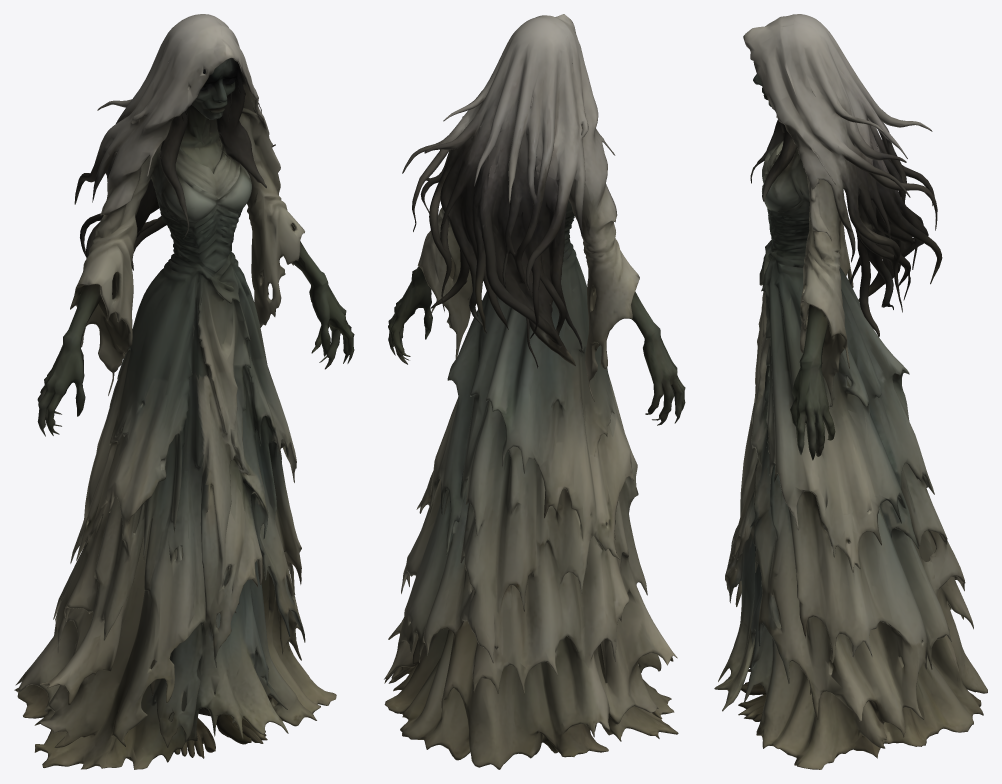
Rendered from LloronaModeloBase_NORigg.fbx.
3 views of the same model, side by side, from view 1: azimuth 30°, elevation 25°; view 2: azimuth 150°, elevation 25°; view 3: azimuth 270°, elevation 25° (orthographic). The views are drawn at different scales.
Parts seen in each view (by area): view 1: node_0; view 2: node_0; view 3: node_0.
Part boxes in pixels (<box>): node_0: <box>14,14,354,769</box>; node_0: <box>384,14,685,769</box>; node_0: <box>714,14,987,769</box>.
Bounding box in the file's own units: 0.7405 × 1.62 × 0.5822.
